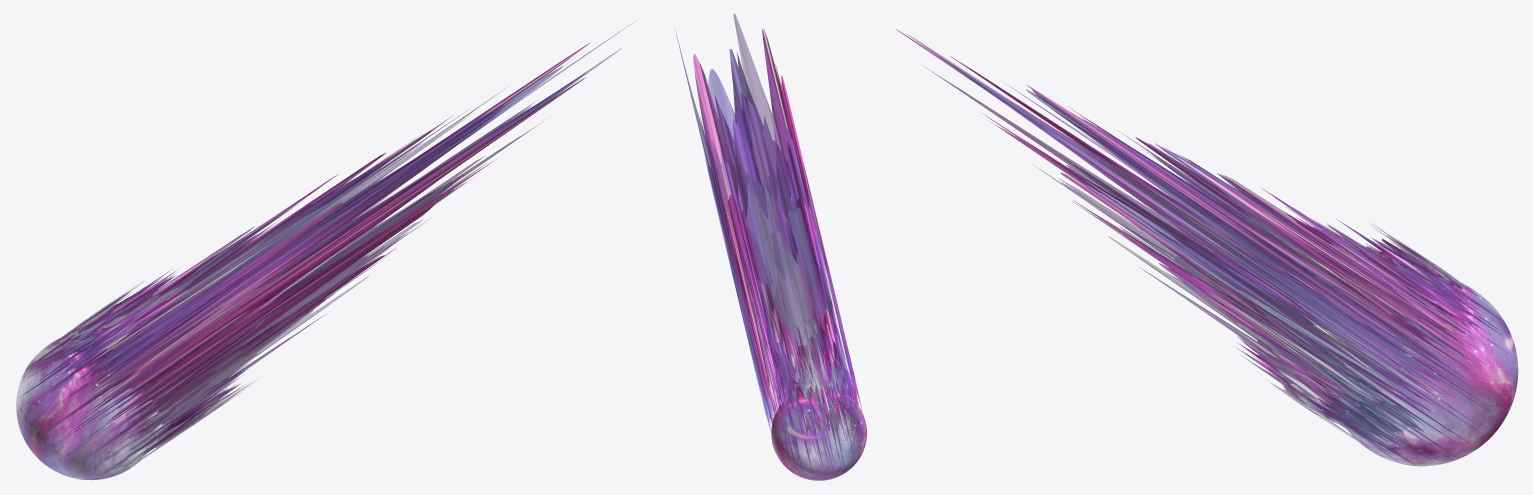
Rendered from comet.glb.
3 views of the same model, side by side, from view 1: azimuth 30°, elevation 25°; view 2: azimuth 150°, elevation 25°; view 3: azimuth 270°, elevation 25° (orthographic). The views are drawn at different scales.
Parts seen in each view (by area): view 1: Object_2; view 2: Object_2; view 3: Object_2.
Boxes of the visible parts, x1=… form: Object_2: x1=16, y1=24, x2=630, y2=480; Object_2: x1=676, y1=14, x2=866, y2=480; Object_2: x1=896, y1=29, x2=1518, y2=466.
Bounding box in the file's own units: 14.17 × 14.62 × 13.04.
Materials: 1 (1 with a texture image).
